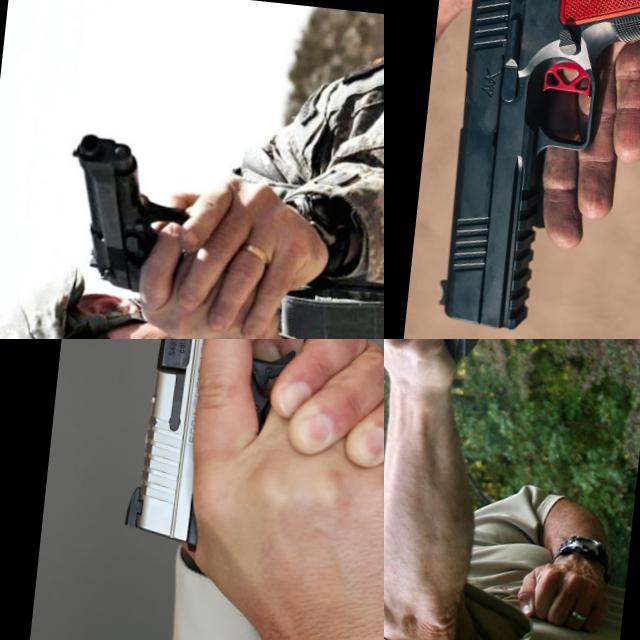handgun: (419, 0, 640, 339), (116, 339, 332, 568), (56, 129, 196, 299), (384, 339, 447, 443)
